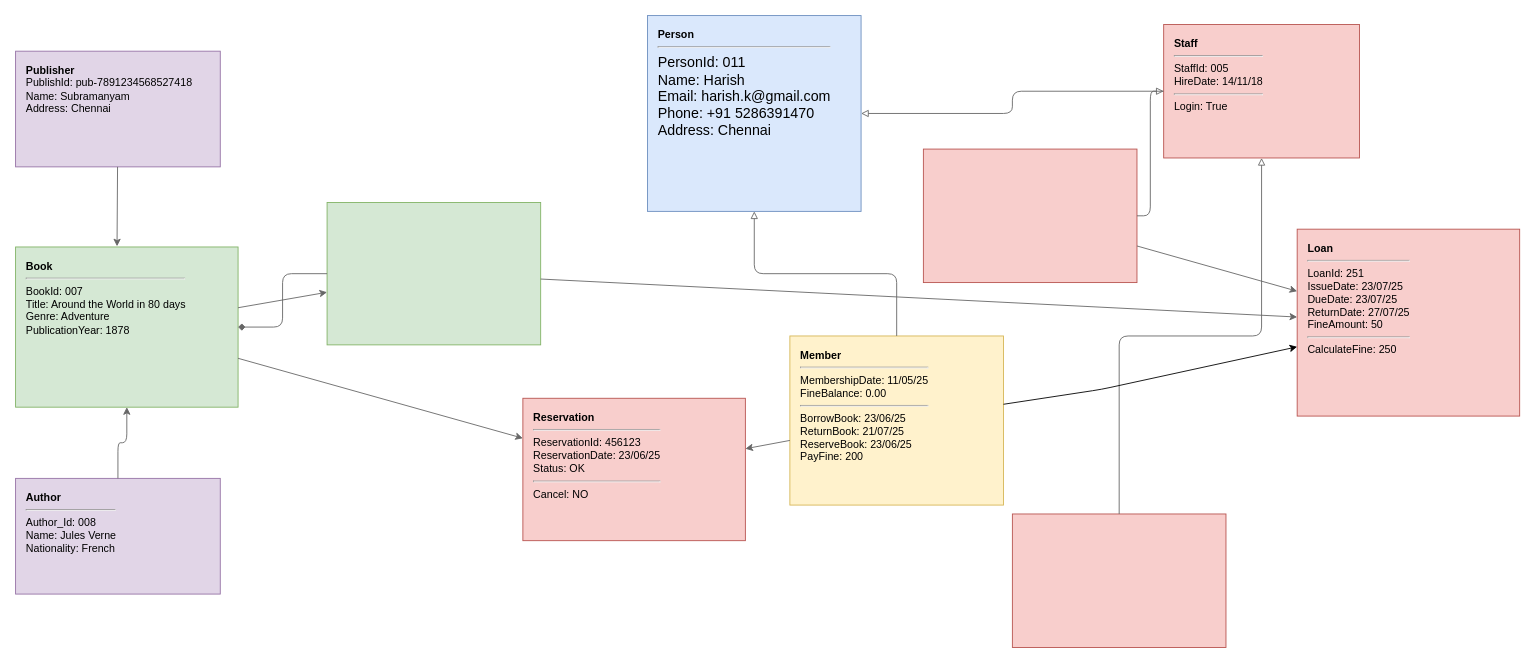
Image size: 1535x663. Some labels were removed from this diagram. The shapes that lost their labels are listed below. From the top down, each one's centre as x and y in pixels, then its label:
At (1029,215): "Librarian DeskNumber: 008 IssueLoan: 23/07/25 ProcessReturn: 27/07/25".
At (433,273): "BookCopy CopyId: 009 ShelfLocation: Fiction Status: 200".
At (1118,580): "Admin AccessLevel: YES AddBook: +32 GenerateReport: Report".
